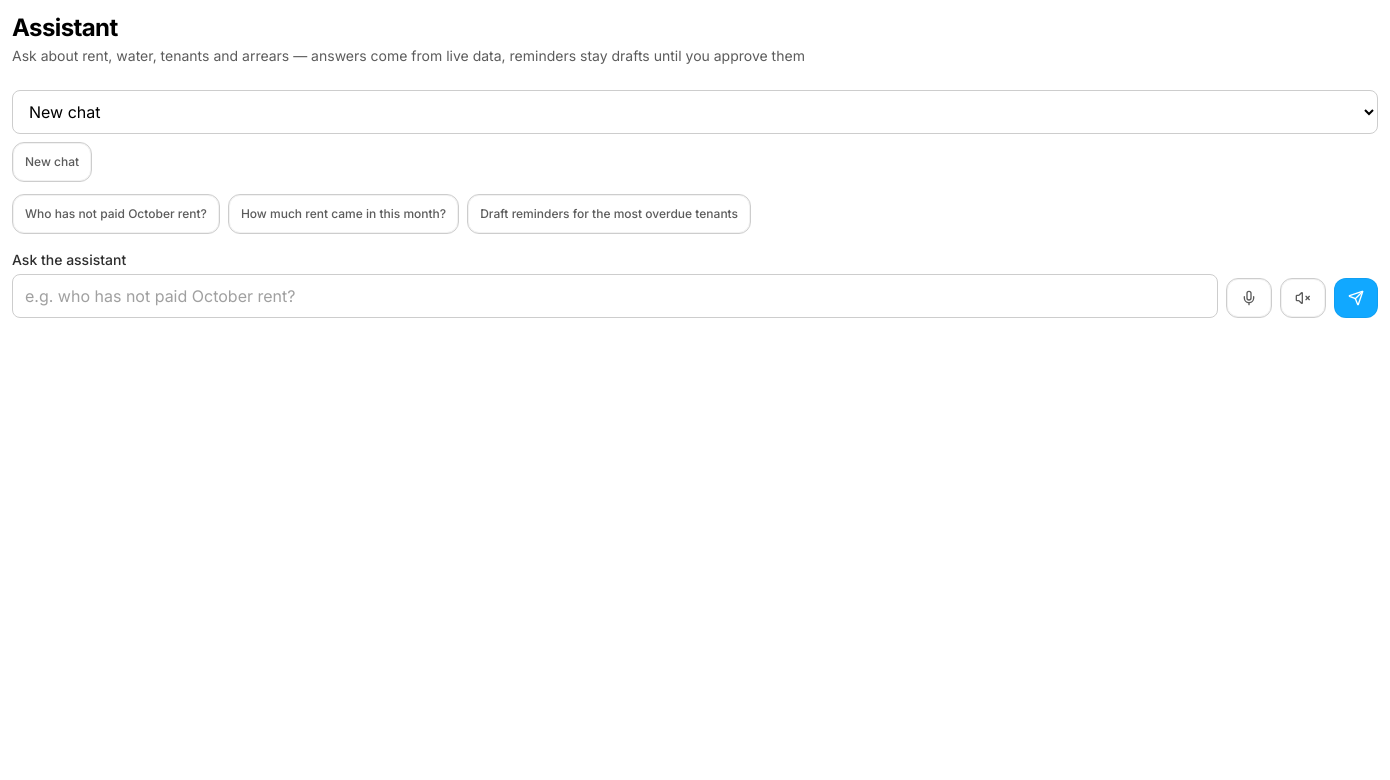
it: Assistant mic (record and transcribe) › rejects oversized recordings client-side without uploading
Expected: the text "Ask about rent, water, tenants" is shown, [12, 47, 805, 64]
Click the button named "Dictate question": (1249, 298) [1226, 278, 1272, 318]
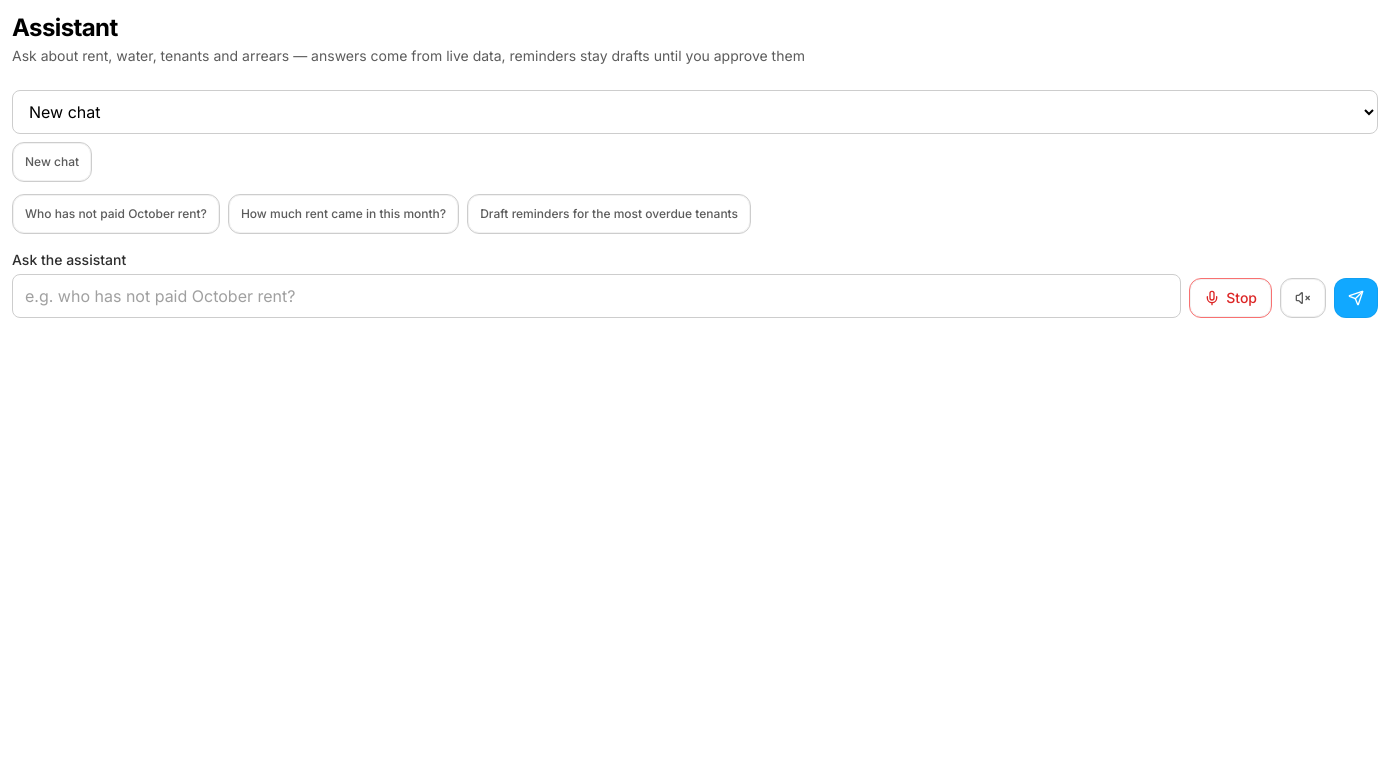
Now the button "Stop" is shown
Click the button with aria-label "Dictate question": (1231, 298) [1189, 278, 1272, 318]
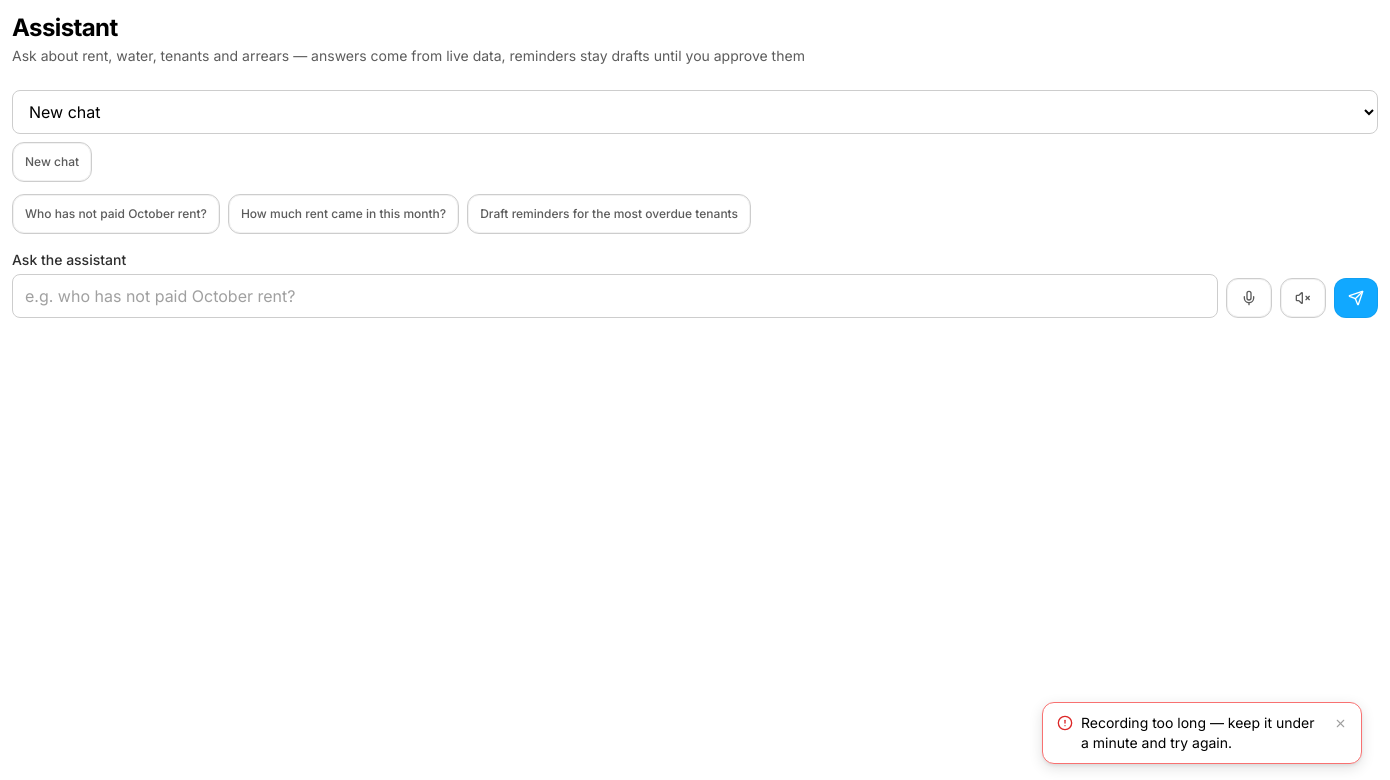
Now the text "Recording too long — keep it under a minute and try again." is shown, box [1081, 713, 1322, 753]
